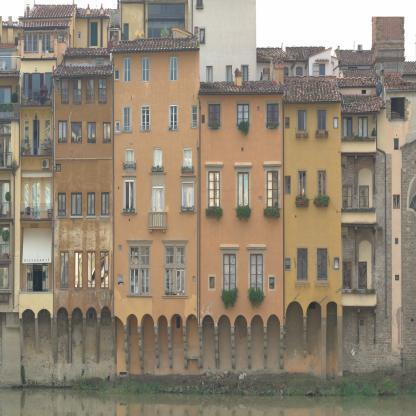Balcony: (18, 40, 69, 59), (20, 89, 53, 107), (20, 140, 53, 157), (20, 204, 52, 221)
Building Outline: (17, 19, 392, 381)
Cornice: (161, 239, 188, 244), (126, 239, 153, 244), (219, 244, 240, 250), (246, 244, 267, 250), (204, 161, 224, 167), (263, 161, 282, 167), (234, 162, 253, 168), (148, 172, 167, 175), (180, 174, 196, 176), (121, 175, 137, 177)
Door: (32, 181, 40, 219), (32, 119, 40, 155), (32, 73, 40, 105), (42, 33, 51, 56)
Facade: (17, 26, 392, 381)
Floor: (200, 141, 284, 227), (114, 176, 200, 230), (53, 157, 114, 232), (114, 95, 200, 143), (284, 150, 341, 218), (341, 156, 392, 227), (114, 142, 200, 176), (53, 114, 114, 158), (20, 158, 53, 222), (20, 107, 53, 157), (20, 58, 53, 107)
Floor Slab: (114, 225, 200, 229), (114, 91, 200, 94), (114, 172, 200, 175), (114, 139, 200, 142), (200, 143, 284, 146), (200, 224, 284, 227), (53, 111, 114, 115), (53, 228, 114, 232), (284, 146, 341, 150), (341, 152, 392, 156), (53, 155, 114, 158), (284, 215, 341, 218), (18, 55, 71, 58), (341, 224, 392, 227), (20, 155, 53, 158), (20, 104, 53, 107), (20, 219, 53, 222)
Ground Floor: (200, 228, 284, 324), (114, 229, 200, 313), (284, 218, 341, 301), (53, 232, 114, 306), (341, 228, 392, 309), (20, 221, 53, 309)
Pillar: (321, 317, 327, 380), (337, 315, 343, 378), (123, 324, 130, 376), (110, 316, 117, 364), (138, 326, 144, 374), (198, 324, 204, 368), (214, 325, 220, 369), (154, 325, 160, 368), (167, 325, 173, 368), (96, 315, 101, 364), (231, 324, 236, 369), (247, 325, 252, 369), (302, 316, 307, 357), (68, 316, 72, 363), (53, 317, 57, 363), (280, 325, 284, 370), (183, 324, 187, 368), (263, 325, 267, 369), (19, 314, 23, 354), (35, 314, 39, 354), (50, 314, 54, 353), (83, 316, 86, 364), (357, 308, 360, 349), (283, 317, 286, 348), (374, 309, 376, 349)
Roof: (282, 75, 342, 102), (110, 37, 200, 51), (198, 80, 284, 94), (340, 92, 386, 112), (51, 64, 113, 76), (64, 47, 113, 56), (337, 77, 379, 87), (18, 19, 73, 26)
Shop: (22, 228, 52, 263), (27, 264, 48, 292)
Sill: (148, 226, 167, 233), (126, 294, 153, 298), (162, 295, 188, 299), (121, 212, 138, 216), (220, 295, 239, 298), (247, 295, 266, 298), (179, 211, 197, 214), (69, 216, 83, 219), (99, 215, 111, 218), (56, 216, 68, 219), (86, 216, 97, 219)
Top Floor: (200, 95, 284, 147), (114, 49, 200, 94), (53, 55, 114, 115), (341, 87, 386, 156), (284, 101, 341, 150), (18, 18, 71, 59)
Window: (250, 254, 263, 293), (223, 254, 236, 293), (153, 186, 164, 226), (209, 171, 220, 208), (267, 171, 278, 207), (238, 172, 249, 208), (182, 182, 194, 211), (317, 249, 327, 281), (298, 249, 308, 281), (23, 34, 39, 54), (101, 252, 109, 290), (88, 252, 96, 290), (75, 252, 83, 290), (61, 251, 69, 289), (125, 180, 134, 213), (54, 33, 67, 54), (237, 104, 249, 126), (359, 186, 369, 212), (71, 193, 82, 216), (267, 103, 278, 126), (209, 104, 220, 127), (358, 262, 367, 290), (176, 268, 185, 295), (165, 268, 174, 295), (141, 268, 150, 295), (130, 268, 139, 295), (358, 117, 368, 141), (98, 78, 107, 104), (318, 171, 326, 200), (298, 171, 306, 200), (71, 122, 82, 143), (342, 185, 352, 208), (141, 106, 150, 131), (153, 147, 162, 172), (343, 262, 351, 290), (58, 120, 67, 144), (343, 117, 352, 141), (86, 78, 94, 104), (73, 78, 81, 104), (61, 78, 69, 104), (123, 106, 131, 132), (170, 57, 178, 82), (170, 105, 178, 130), (184, 147, 192, 172), (123, 58, 131, 82), (87, 122, 96, 143), (45, 181, 51, 212), (58, 193, 66, 216), (87, 193, 95, 216), (101, 193, 109, 216), (126, 150, 134, 173), (142, 57, 149, 82), (176, 246, 185, 265), (165, 246, 174, 265), (141, 246, 150, 265), (130, 246, 139, 265), (103, 122, 111, 143), (298, 111, 306, 131), (318, 110, 326, 130), (24, 182, 29, 213), (45, 119, 51, 144), (45, 73, 52, 94), (192, 106, 197, 128), (285, 176, 291, 194), (25, 120, 29, 143), (285, 257, 290, 271), (55, 79, 60, 92), (334, 257, 339, 270), (96, 58, 104, 66), (25, 74, 28, 95), (114, 69, 119, 81), (118, 275, 124, 285), (210, 277, 215, 289), (270, 277, 275, 289), (285, 118, 290, 130), (115, 121, 120, 132), (334, 117, 338, 129), (56, 164, 60, 172), (118, 245, 122, 251), (193, 276, 196, 282)
